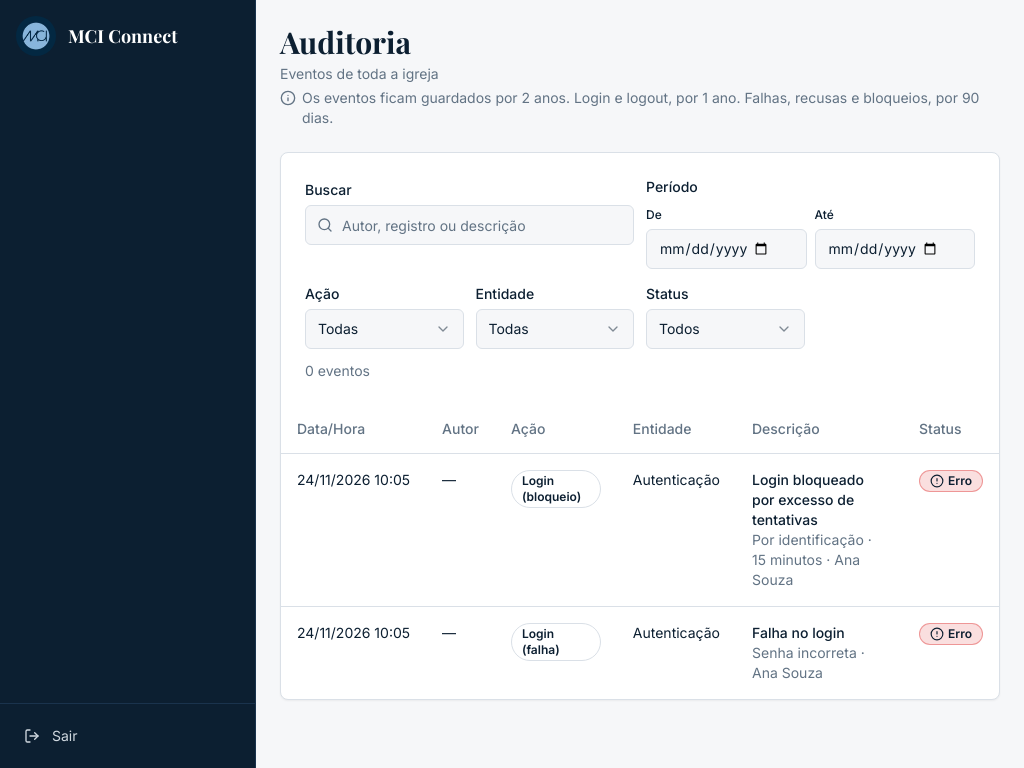
Test: UX-15: ação 'Login (bloqueio)' › escolher a opção consulta o banco só pela ação login_blocked
Expected: the button "Login bloqueado por excesso de tentativas" is shown, [752,470,887,530]
Press Enter in the 1st dropdown labelled "Todas", box [305,309,464,349]
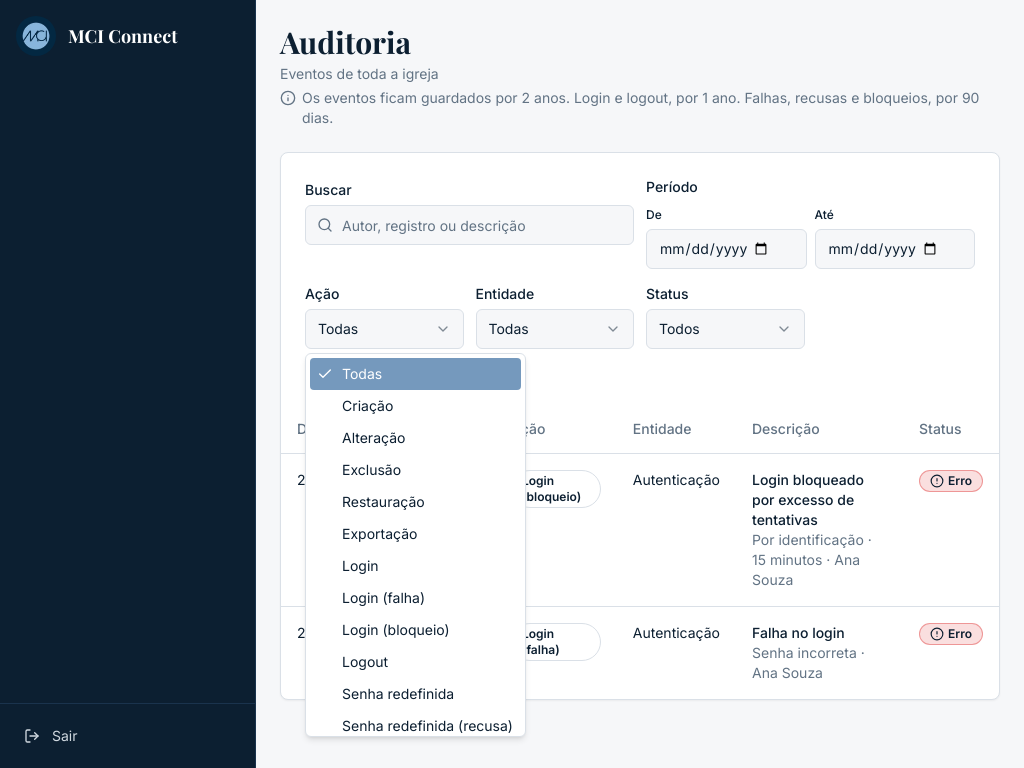
Click the option "Login (bloqueio)" at (396, 630), box [342,621,450,638]
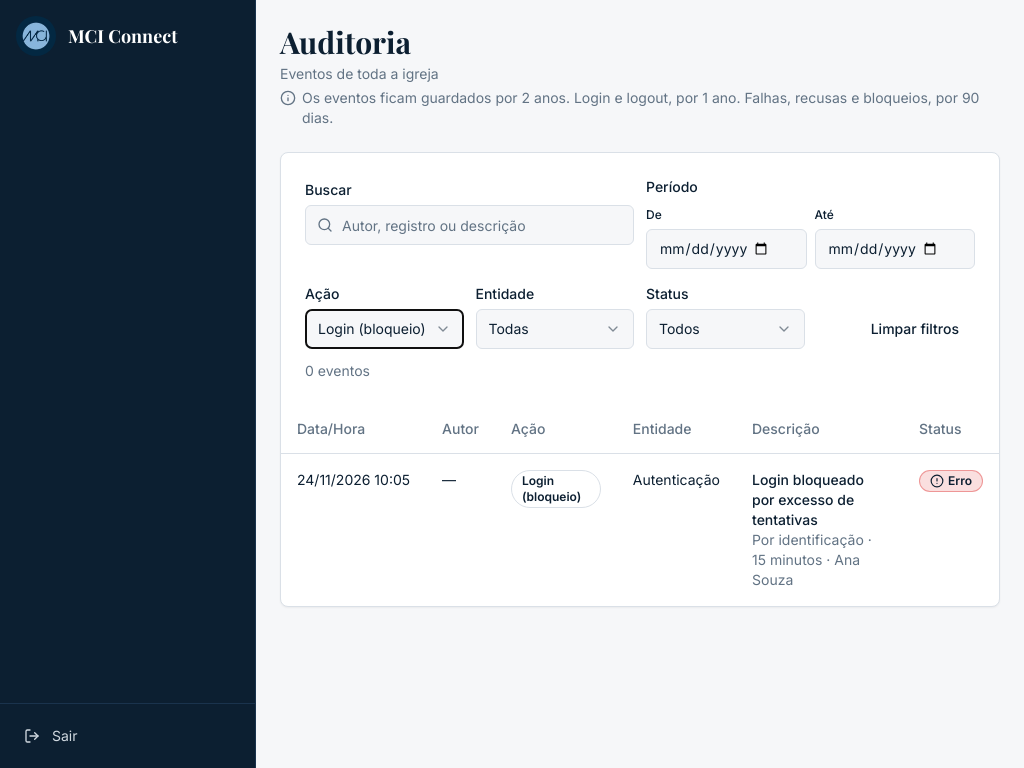
Now the button "Falha no login" is gone
Now the dropdown labelled "Login (bloqueio)" is shown, box [305,309,464,349]
